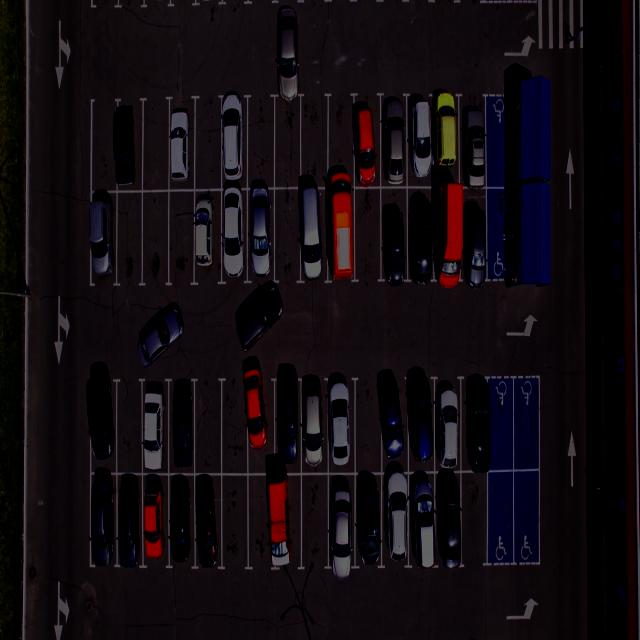empty: (298, 472, 332, 573), (140, 191, 172, 287), (114, 378, 145, 474), (219, 375, 249, 474), (193, 97, 224, 192), (169, 188, 199, 286), (194, 377, 224, 474), (219, 473, 249, 570), (115, 190, 145, 286), (352, 377, 382, 473), (142, 98, 172, 192), (352, 187, 382, 280), (246, 96, 276, 188), (272, 188, 302, 280), (514, 471, 543, 562), (486, 469, 514, 563), (462, 470, 490, 564), (328, 97, 356, 189), (248, 471, 273, 571), (515, 378, 542, 470), (274, 97, 301, 187), (489, 378, 514, 473), (300, 99, 326, 188), (92, 101, 115, 189)
occupied: (268, 470, 302, 572), (246, 372, 279, 472), (325, 374, 358, 470), (85, 374, 117, 472), (139, 380, 171, 476), (192, 476, 224, 572), (168, 96, 200, 192), (216, 189, 248, 284), (113, 97, 145, 192), (246, 188, 278, 282), (169, 376, 200, 473), (432, 184, 463, 280), (296, 187, 328, 280), (86, 191, 117, 286), (191, 189, 222, 284), (274, 376, 304, 474), (351, 471, 382, 565), (378, 472, 409, 565), (378, 376, 408, 472), (432, 375, 462, 469), (378, 186, 408, 280), (328, 471, 357, 568), (432, 470, 461, 564), (141, 472, 170, 566), (170, 471, 198, 568), (327, 186, 356, 279), (298, 376, 326, 472), (407, 376, 435, 472), (408, 185, 436, 280), (353, 95, 382, 186), (115, 472, 144, 563), (220, 96, 248, 190), (432, 94, 461, 184), (380, 96, 408, 187), (408, 94, 436, 184), (410, 470, 437, 562), (466, 378, 492, 472), (89, 476, 116, 562), (465, 96, 489, 187), (468, 188, 490, 285)
